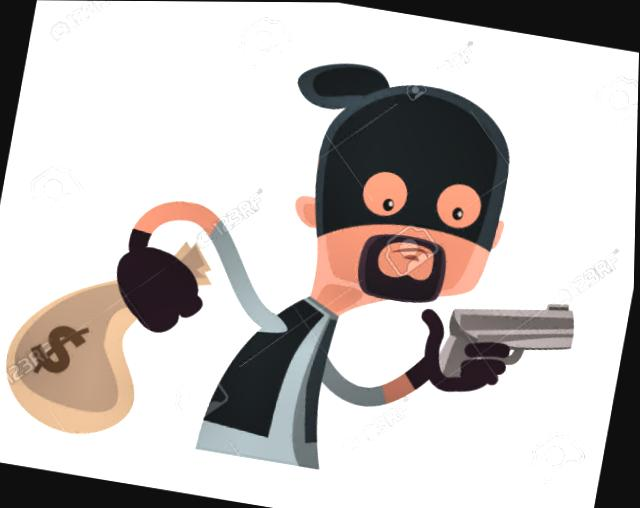pistol: (428, 283, 585, 407)
